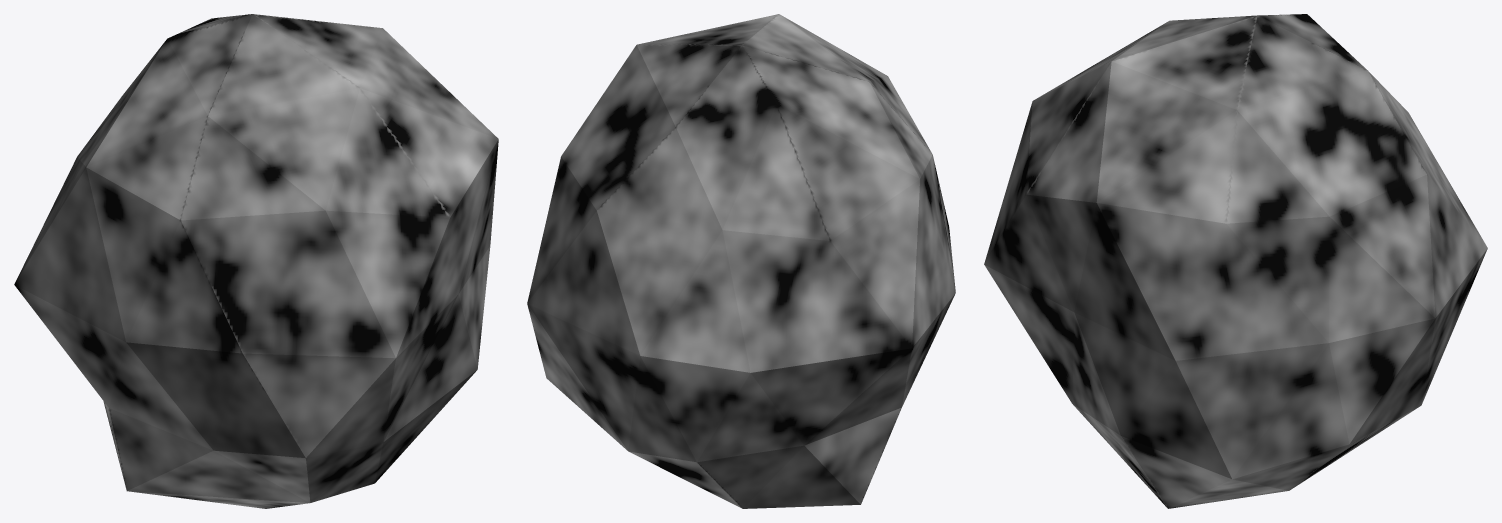
File: bush_large.glb
The picture shows the model from 3 angles, left to right: view 1: azimuth 30°, elevation 25°; view 2: azimuth 150°, elevation 25°; view 3: azimuth 270°, elevation 25°; orthographic projection. The views are drawn at different scales.
Parts seen in each view (by area): view 1: bush_large; view 2: bush_large; view 3: bush_large.
Boxes of the visible parts, x1,y1,x2,y2 form: bush_large: (14,14,498,508); bush_large: (527,14,955,508); bush_large: (984,14,1487,508).
Size of the model in its own units: 2.07 by 2.36 by 2.23.
1 material, 1 textured.
